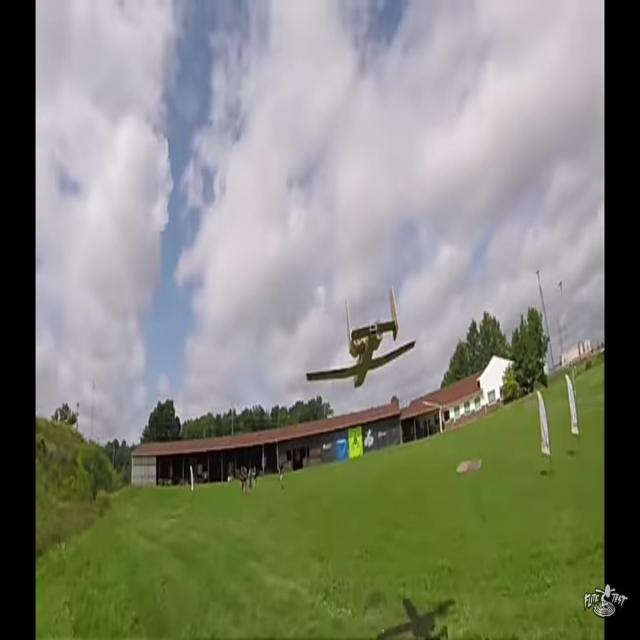iha: (337, 315, 384, 358)
